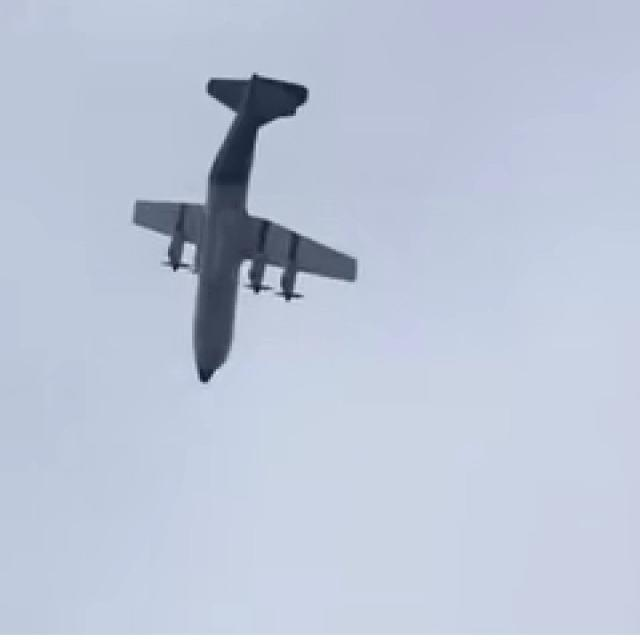iha: (132, 70, 360, 384)
